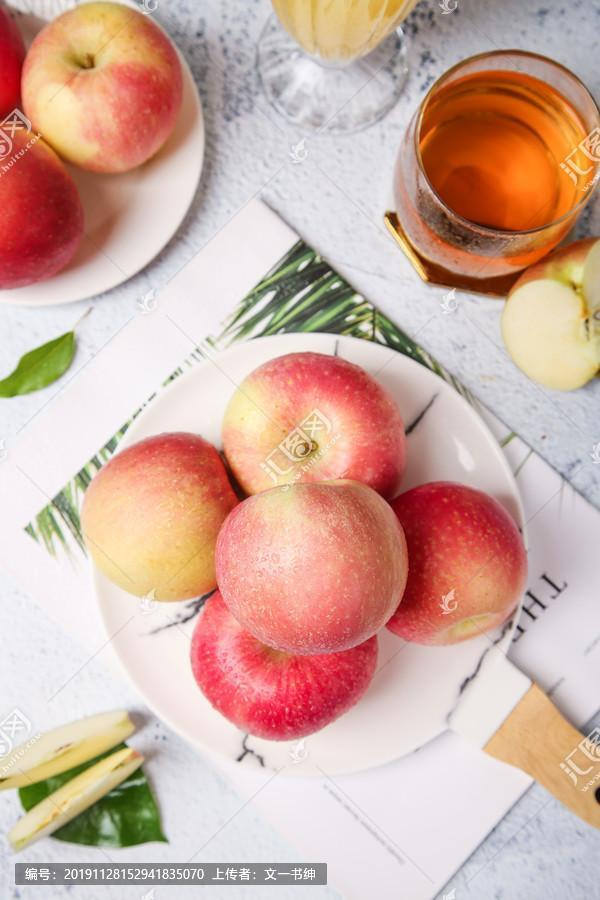apple: (211, 480, 407, 653), (11, 1, 191, 172), (185, 593, 381, 747), (76, 425, 242, 602), (220, 351, 408, 499), (383, 477, 527, 648)
